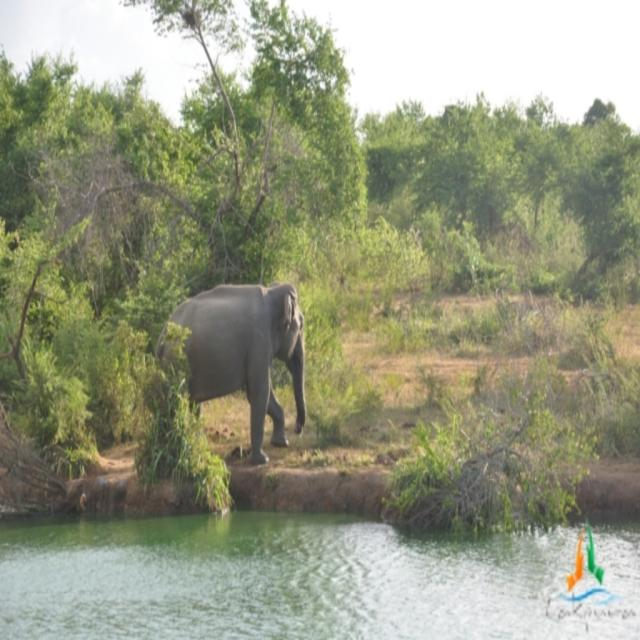elephant: (162, 272, 314, 468)
